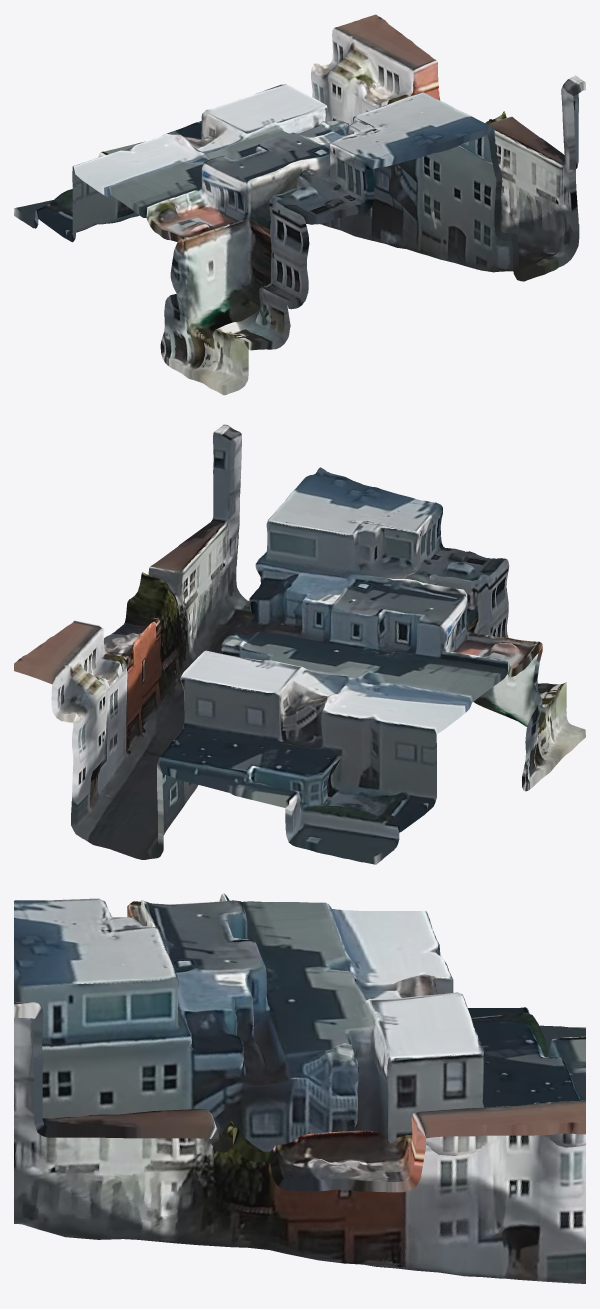
The model's file is z20-167751-405193-h0-yup-uvflip-v3-world.glb.
The picture shows the model from 3 angles, top to bottom: view 1: azimuth 30°, elevation 25°; view 2: azimuth 150°, elevation 25°; view 3: azimuth 270°, elevation 25°; orthographic projection. The views are drawn at different scales.
Bounding box in the file's own units: 30.2 × 20 × 30.32.
1 material, 1 textured.
